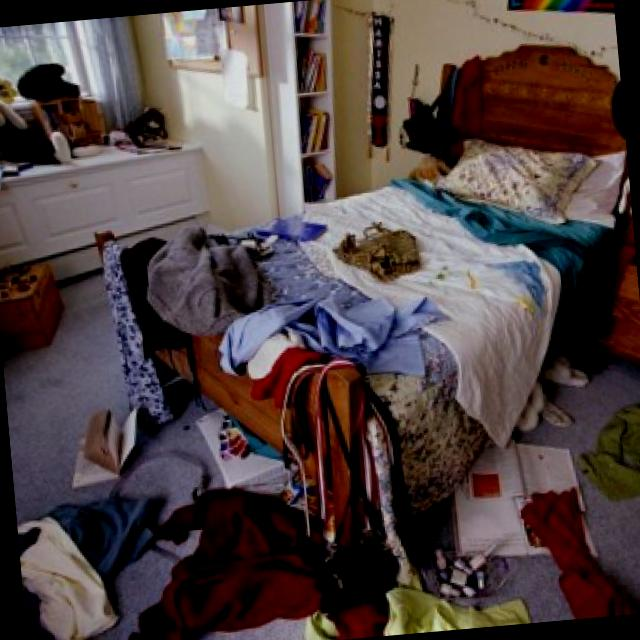mess: (9, 389, 640, 640), (93, 191, 640, 467), (386, 28, 590, 294), (0, 50, 208, 217)
